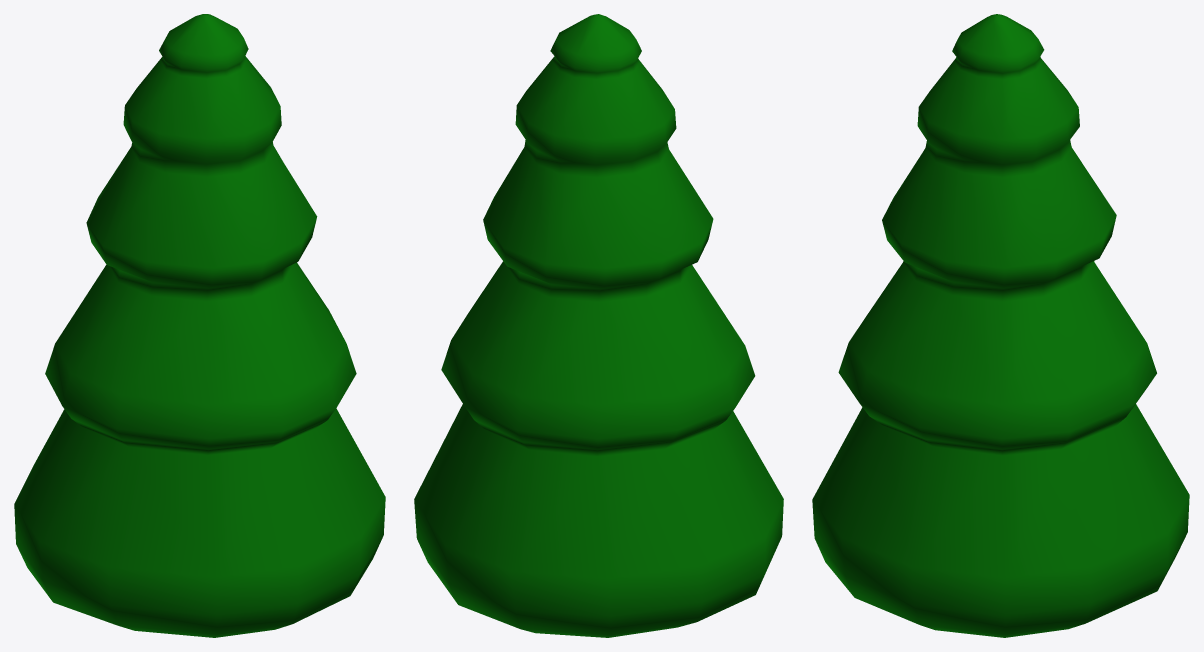
The model's file is SM_Tree_P_3.fbx.
3 views of the same model, side by side, from view 1: azimuth 30°, elevation 25°; view 2: azimuth 150°, elevation 25°; view 3: azimuth 270°, elevation 25° (orthographic).
Parts seen in each view (by area): view 1: SM_Tree_P_3; view 2: SM_Tree_P_3; view 3: SM_Tree_P_3.
Part boxes in pixels (x1,y1,x2,y2): SM_Tree_P_3: (14,14,385,637); SM_Tree_P_3: (414,14,783,637); SM_Tree_P_3: (812,14,1189,637).
Size of the model in its own units: 351 by 580 by 351.
